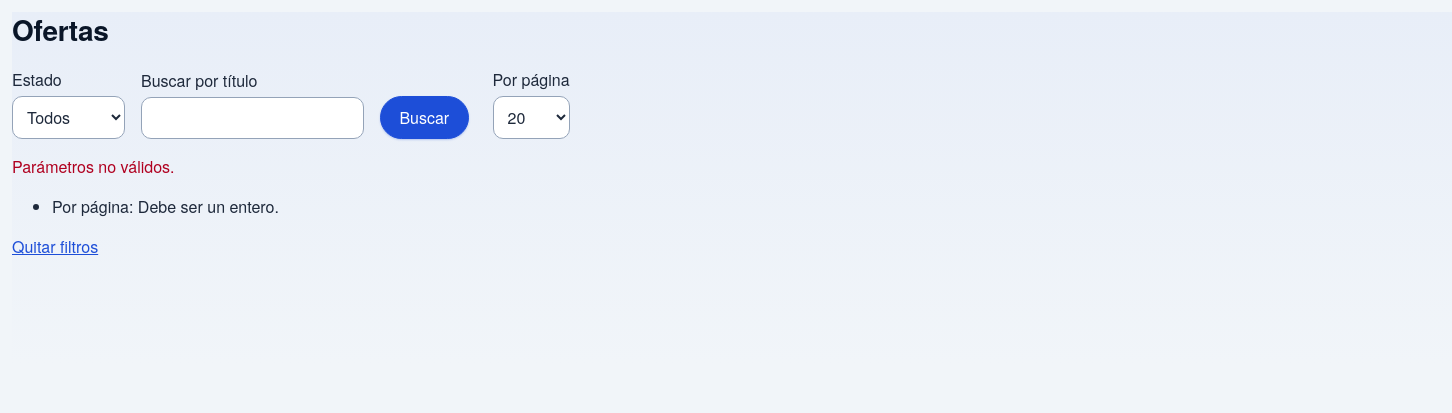
Test case: JobListScreen · adversarial › EC-32 URL manipulada: pageSize=abc → alerta con «Por página: …» y «Quitar filtros» a /jobs, sin «Reintentar»
expect the message reads "Parámetros no válidos.": met, box left=12, top=155, right=174, bottom=178
expect the list items read "Por página: Debe ser un entero.", in this order: met, box left=52, top=195, right=279, bottom=218
Click the link "Quitar filtros".
click(55, 247)  # box left=12, top=235, right=98, bottom=258
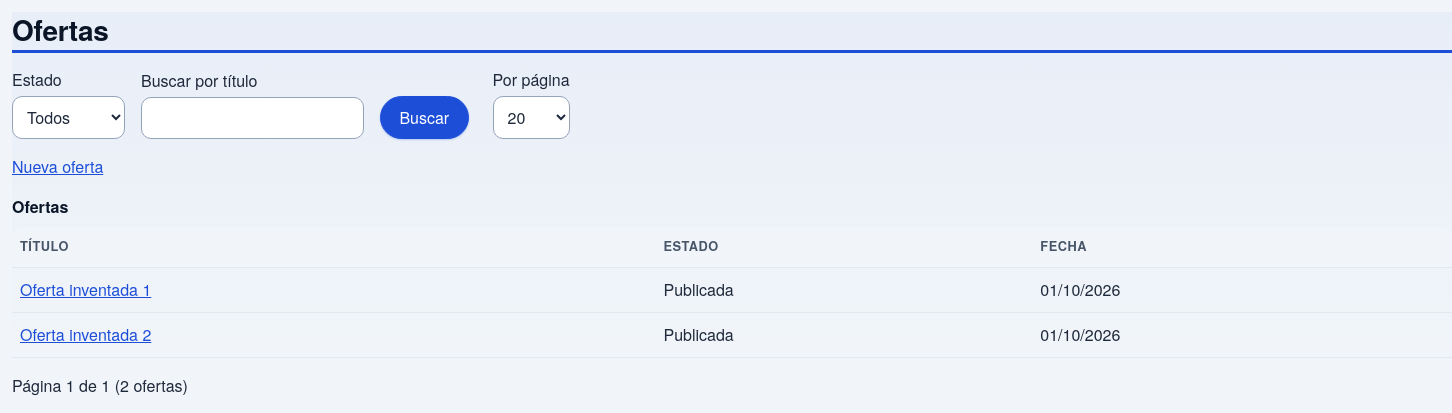
expect the table "Ofertas" is shown: met, box left=12, top=195, right=1451, bottom=358
